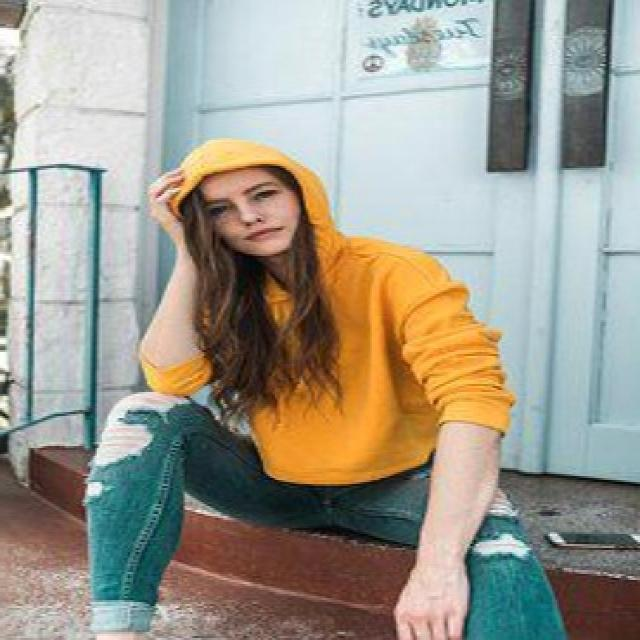adult: (88, 148, 559, 640)
